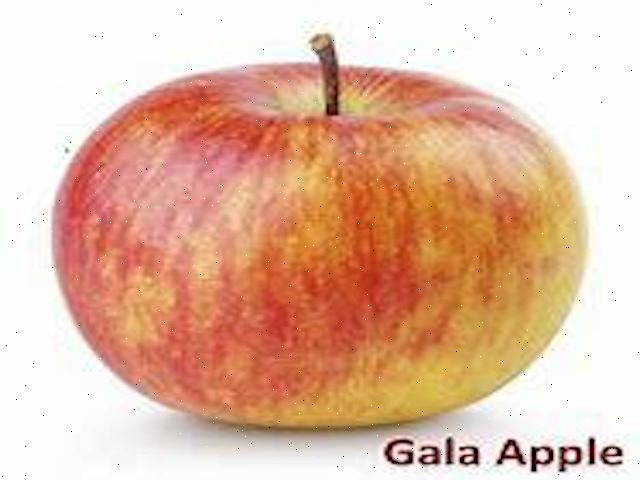apple: (46, 26, 593, 433)
